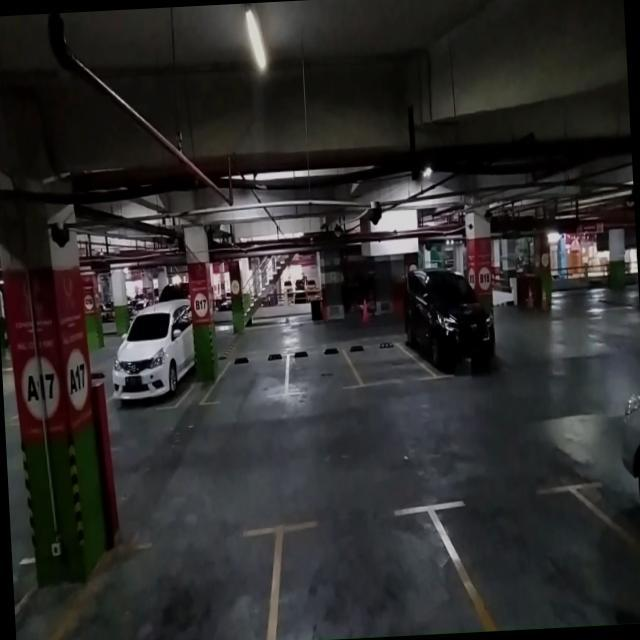empty: (442, 483, 631, 632), (270, 492, 457, 640), (200, 345, 290, 415), (279, 346, 361, 397), (353, 337, 428, 390)
occupied: (106, 304, 190, 415), (415, 287, 489, 380)
